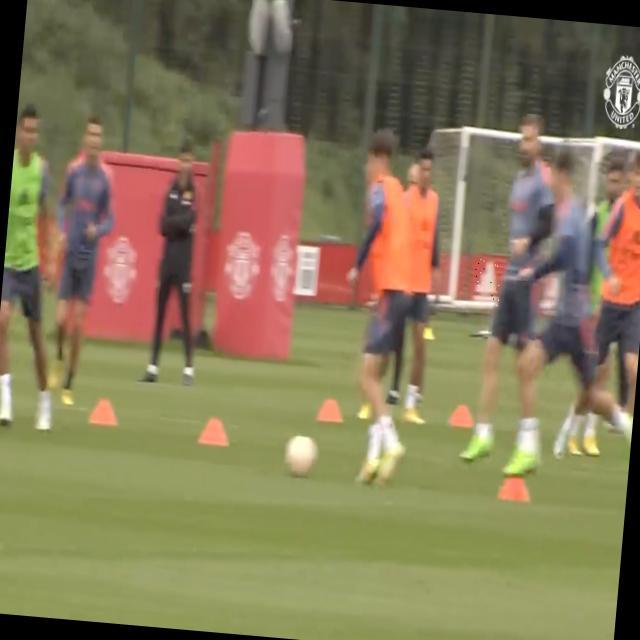Adidas: (472, 258, 502, 308)
